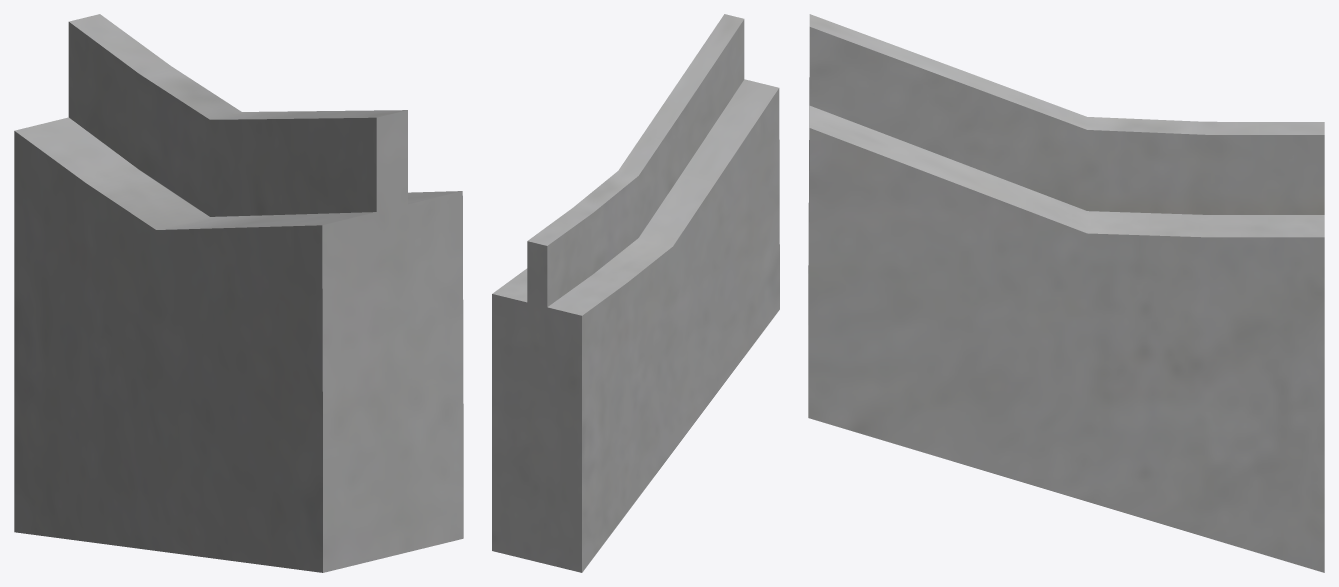
File: StraightUp.fbx
The picture shows the model from 3 angles, left to right: view 1: azimuth 30°, elevation 25°; view 2: azimuth 150°, elevation 25°; view 3: azimuth 270°, elevation 25°; orthographic projection. The views are drawn at different scales.
Visible parts, largest first — view 1: StairConcreteStraightUp; view 2: StairConcreteStraightUp; view 3: StairConcreteStraightUp.
Part boxes in pixels (bbox=[...]): StairConcreteStraightUp: bbox=[14, 14, 463, 572]; StairConcreteStraightUp: bbox=[492, 14, 779, 572]; StairConcreteStraightUp: bbox=[808, 14, 1324, 572].
Size of what is drawn, in the model's own units: 37.72 by 161 by 144.
